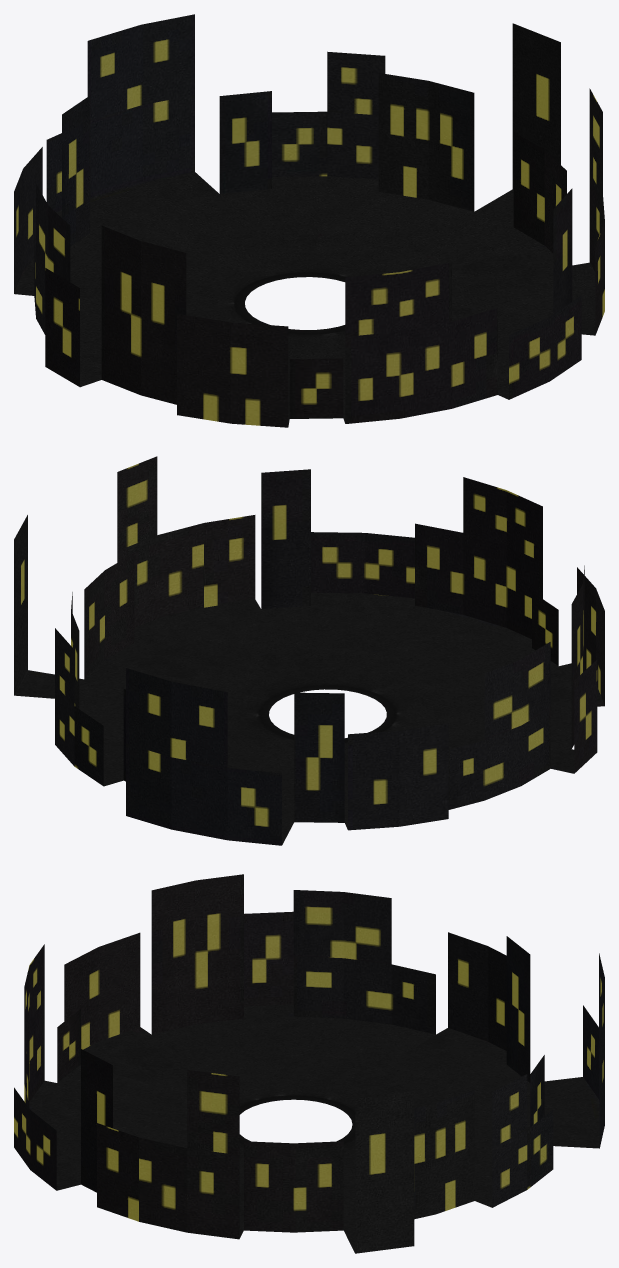
File: background.glb
3 views of the same model, one above another, from view 1: azimuth 30°, elevation 25°; view 2: azimuth 150°, elevation 25°; view 3: azimuth 270°, elevation 25° (orthographic). The views are drawn at different scales.
Visible parts, largest first — view 1: Cylinder.001; view 2: Cylinder.001; view 3: Cylinder.001.
Boxes of the visible parts, x1=… form: Cylinder.001: x1=14, y1=14, x2=604, y2=427; Cylinder.001: x1=14, y1=456, x2=604, y2=845; Cylinder.001: x1=14, y1=874, x2=604, y2=1253.
Size of the model in its own units: 30.27 by 9.26 by 30.24.
1 material, 1 textured.
